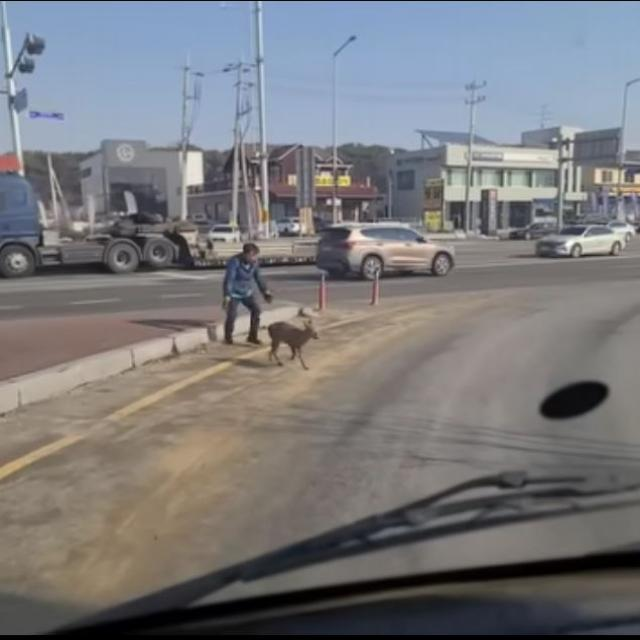elk: (266, 316, 348, 371)
